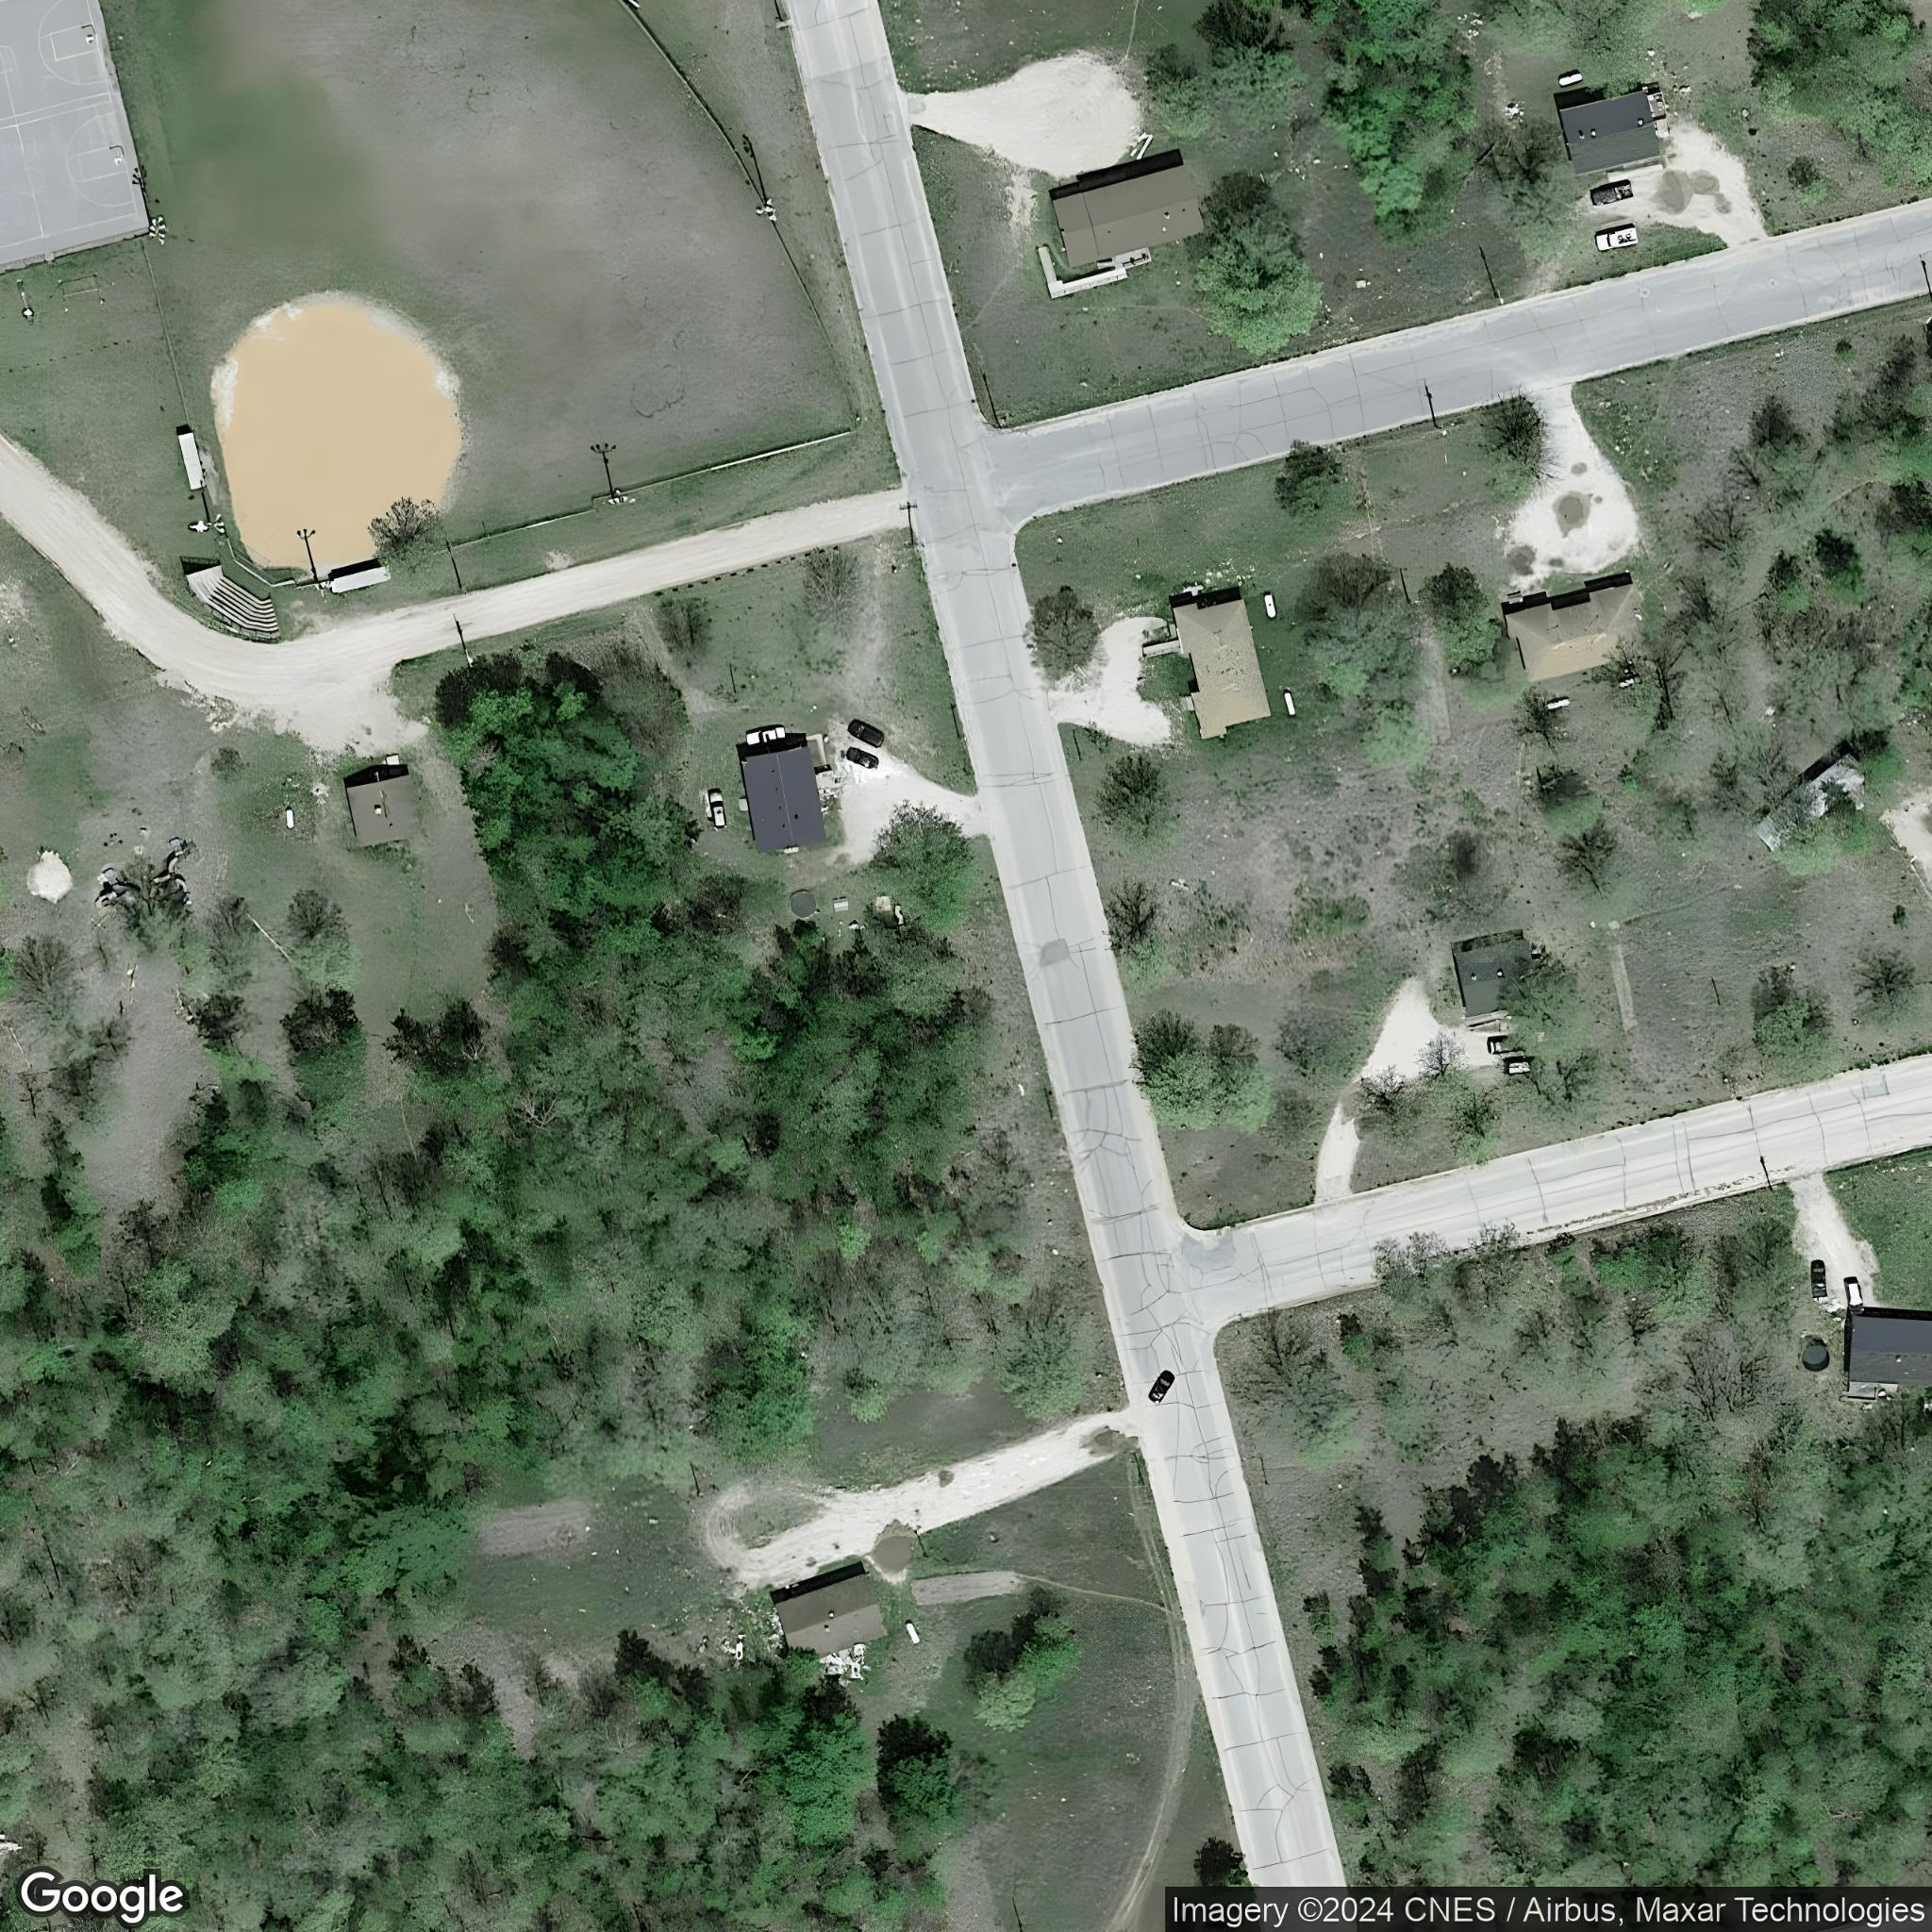House: (1049, 161, 1208, 271), (1171, 596, 1274, 741), (1502, 582, 1647, 685), (771, 1569, 892, 1668), (738, 743, 828, 856), (1557, 88, 1667, 180), (1449, 936, 1541, 1021), (1845, 1315, 1932, 1387), (345, 773, 425, 851)
Propane: (1279, 685, 1302, 722), (1555, 65, 1585, 92), (1260, 587, 1281, 623), (902, 1617, 925, 1649), (1543, 694, 1573, 715), (1615, 671, 1647, 690), (285, 803, 295, 832)
Trailer: (1750, 748, 1872, 856)
